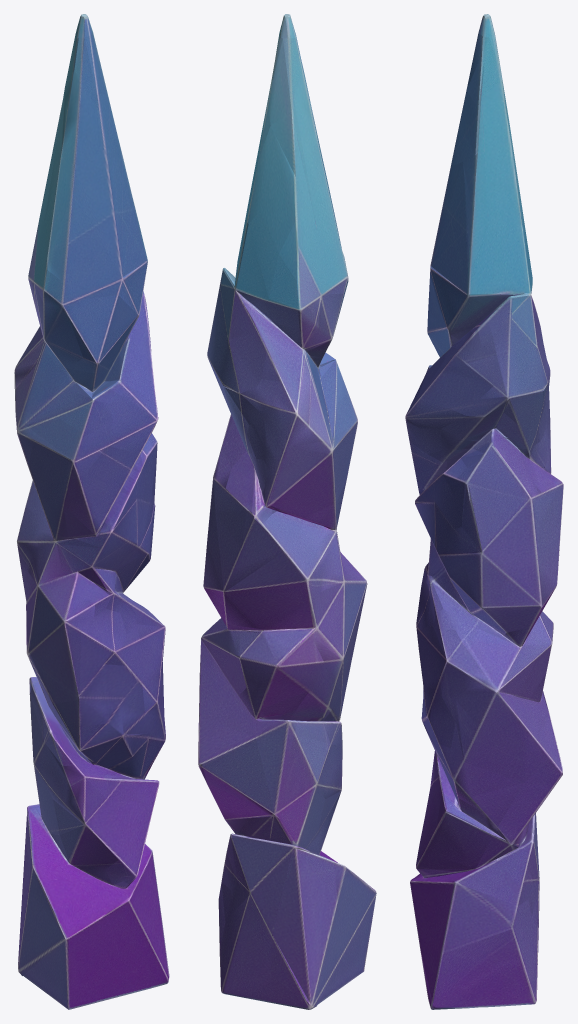
File: pillar-ice.glb
3 renders of one model, left to right at view 1: azimuth 30°, elevation 25°; view 2: azimuth 150°, elevation 25°; view 3: azimuth 270°, elevation 25°, orthographic.
Bounding box in the file's own units: 0.2819 × 1.9 × 0.2818.
1 material, 1 textured.
